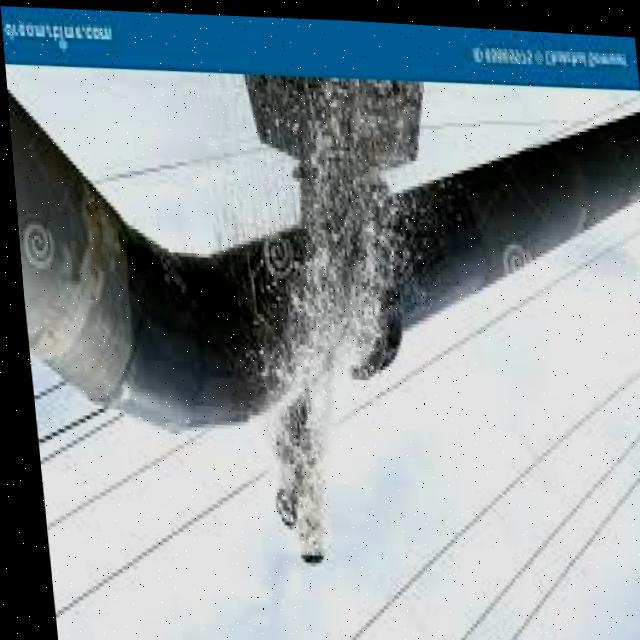corrosion: (217, 92, 473, 588)
